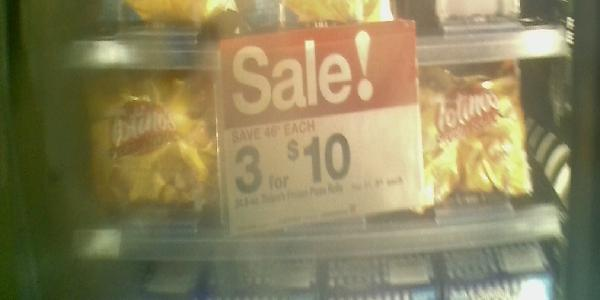icecream: (69, 66, 223, 229), (405, 61, 539, 224)
